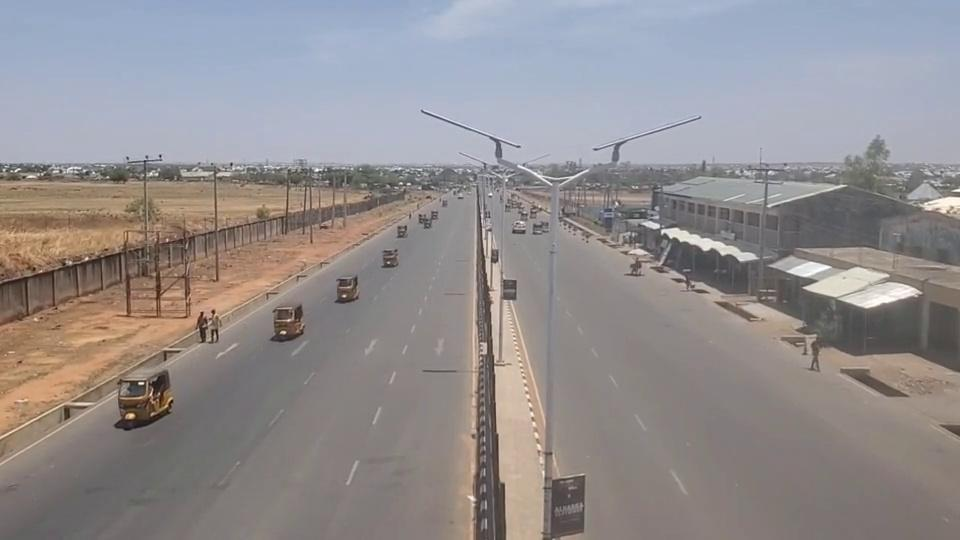car: (513, 221, 526, 234)
keke: (116, 368, 173, 424), (272, 303, 304, 339), (335, 274, 359, 302), (381, 248, 400, 268)
